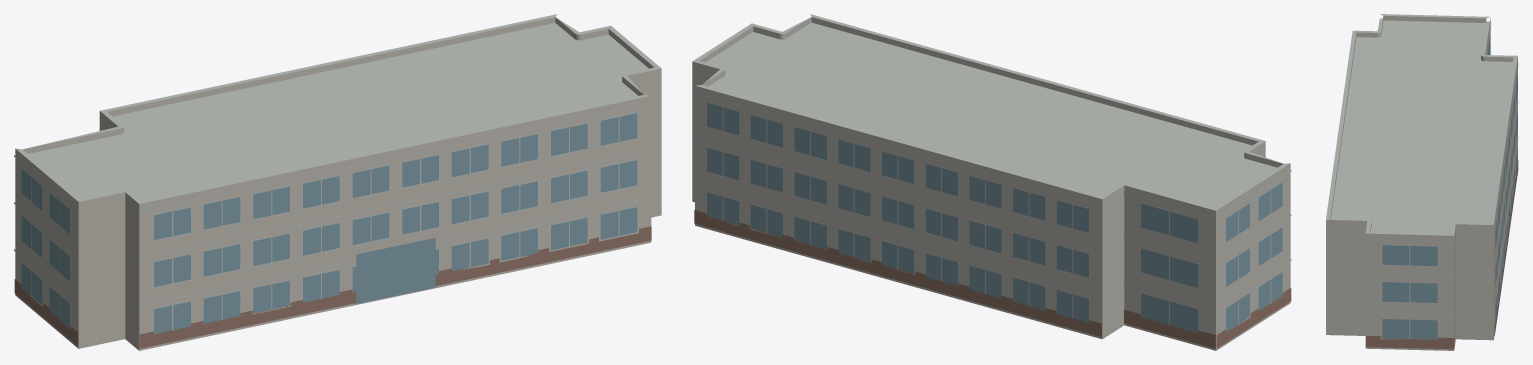
File: public-e4ba1b94-3c4a-4ef5-85c9-ac33252c7722.glb
3 views of the same model, side by side, from view 1: azimuth 30°, elevation 25°; view 2: azimuth 150°, elevation 25°; view 3: azimuth 270°, elevation 25° (orthographic). The views are drawn at different scales.
Parts seen in each view (by area): view 1: public-e4ba1b94-3c4a-4ef5-85c9-ac33252c7722; view 2: public-e4ba1b94-3c4a-4ef5-85c9-ac33252c7722; view 3: public-e4ba1b94-3c4a-4ef5-85c9-ac33252c7722.
Boxes of the visible parts, box(x1,y1,x2,y2) form: public-e4ba1b94-3c4a-4ef5-85c9-ac33252c7722: box(14, 14, 661, 350); public-e4ba1b94-3c4a-4ef5-85c9-ac33252c7722: box(692, 14, 1291, 350); public-e4ba1b94-3c4a-4ef5-85c9-ac33252c7722: box(1326, 14, 1518, 350).
Size of the model in its own units: 37.94 by 9.15 by 14.3.
